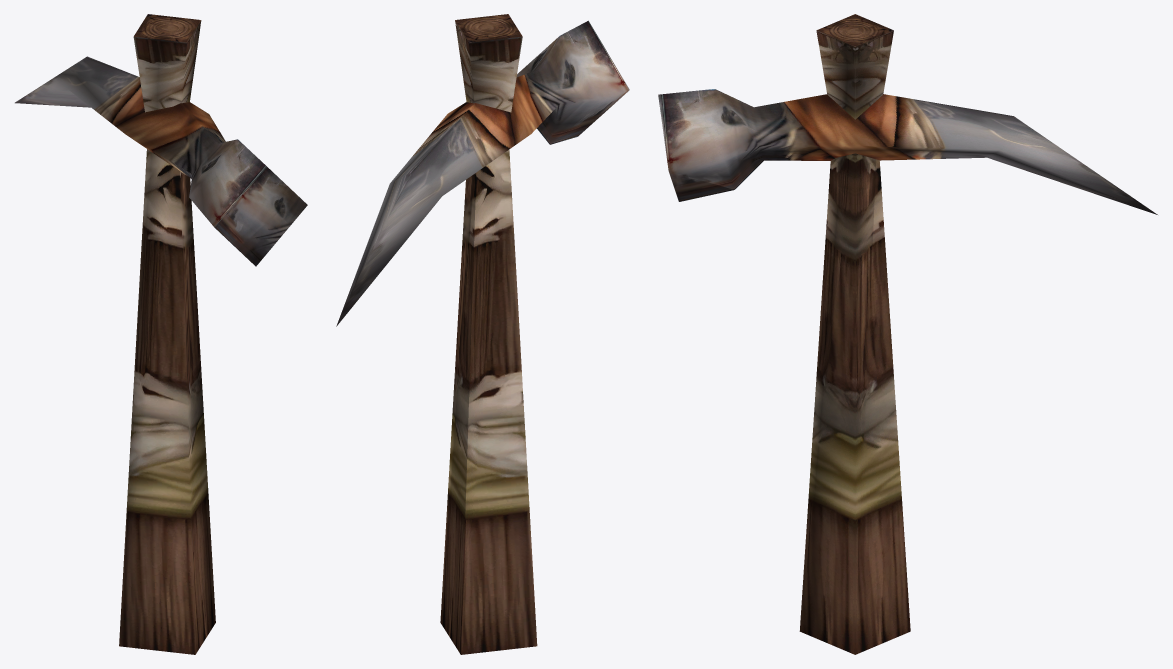
File: pick.obj
The picture shows the model from 3 angles, left to right: view 1: azimuth 30°, elevation 25°; view 2: azimuth 150°, elevation 25°; view 3: azimuth 270°, elevation 25°; orthographic projection.
Visible parts, largest first — view 1: Geoset1, Geoset0, Geoset2; view 2: Geoset1, Geoset0, Geoset2; view 3: Geoset1, Geoset0, Geoset2.
Part boxes in pixels (box(x1,y1,x2,y2)): Geoset1: box(119, 20, 215, 654); Geoset0: box(15, 56, 307, 266); Geoset2: box(134, 14, 200, 42); Geoset1: box(440, 20, 537, 654); Geoset0: box(336, 20, 629, 326); Geoset2: box(455, 14, 522, 42); Geoset1: box(799, 30, 910, 654); Geoset0: box(658, 89, 1157, 214); Geoset2: box(817, 14, 893, 46).
Size of the model in its own units: 0.1467 by 0.8772 by 0.6622.
Materials: 3 (3 with a texture image).
